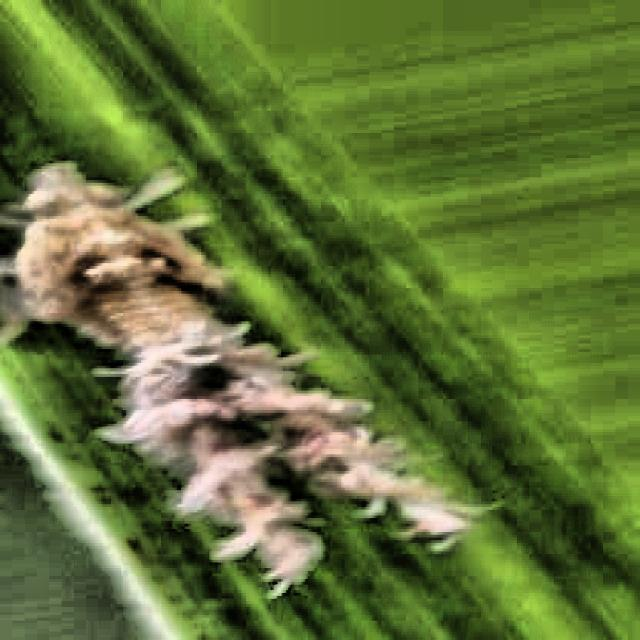Pyrilla-perpusilla: (0, 66, 617, 640)
